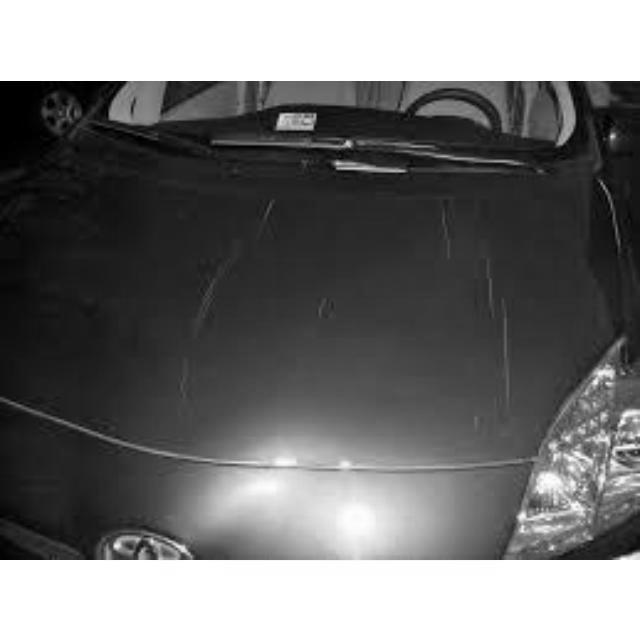bonnet-dent: (1, 140, 618, 520)
